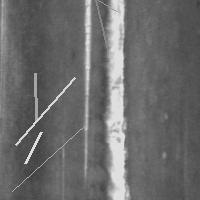scratches: (99, 1, 132, 200), (7, 119, 91, 196), (11, 72, 80, 149), (82, 1, 93, 188), (90, 0, 113, 55), (51, 0, 121, 16), (20, 127, 46, 168), (30, 68, 41, 126)
